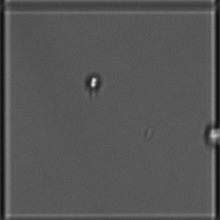Living Cell: (80, 68, 108, 96)
